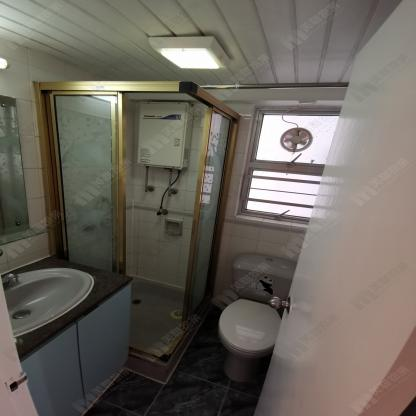Exhaust Fan: (278, 122, 315, 155)
Toilet: (217, 255, 297, 382)
Toilet Sink: (1, 256, 133, 362)
Water Cubicle: (33, 81, 240, 384)
Water Heater: (134, 101, 192, 170)
